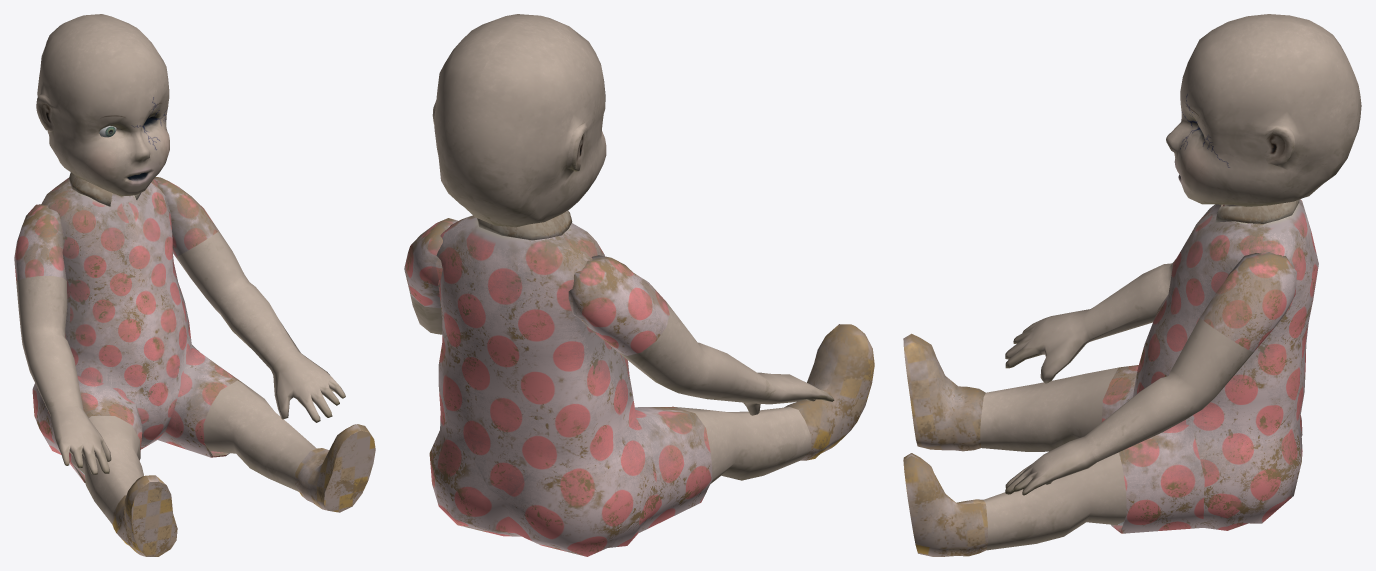
Rendered from baby_doll.FBX.
The picture shows the model from 3 angles, left to right: view 1: azimuth 30°, elevation 25°; view 2: azimuth 150°, elevation 25°; view 3: azimuth 270°, elevation 25°; orthographic projection. The views are drawn at different scales.
Visible parts, largest first — view 1: Cylinder002, Object001; view 2: Cylinder002, Object001; view 3: Cylinder002, Object001.
Boxes of the visible parts, x1=… form: Cylinder002: x1=14, y1=172, x2=375, y2=556; Object001: x1=36, y1=14, x2=169, y2=196; Cylinder002: x1=404, y1=210, x2=874, y2=556; Object001: x1=432, y1=14, x2=606, y2=227; Cylinder002: x1=903, y1=199, x2=1318, y2=556; Object001: x1=1166, y1=14, x2=1361, y2=206.
Bounding box in the file's own units: 0.2863 × 0.3415 × 0.3951.
2 materials, 2 textured.
